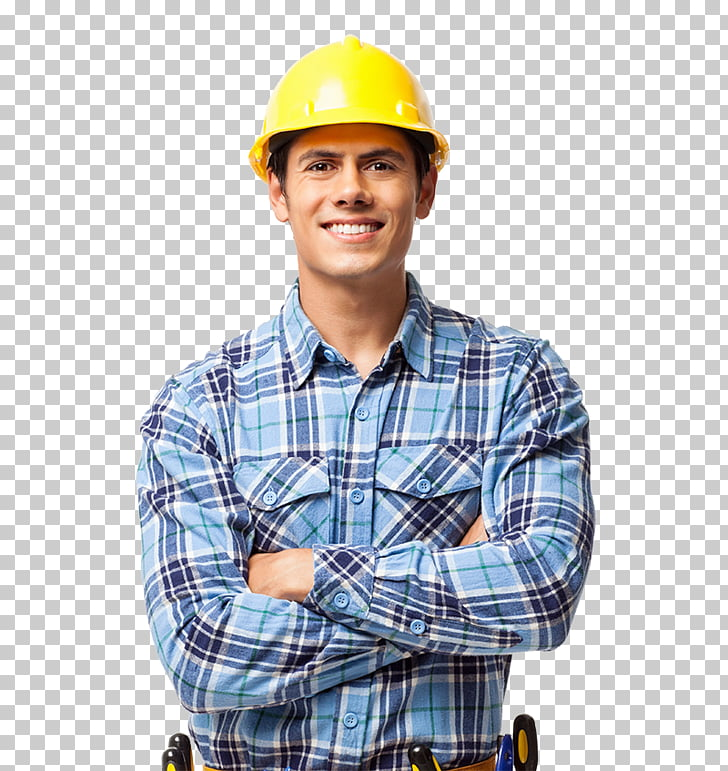casco: (248, 33, 451, 187)
